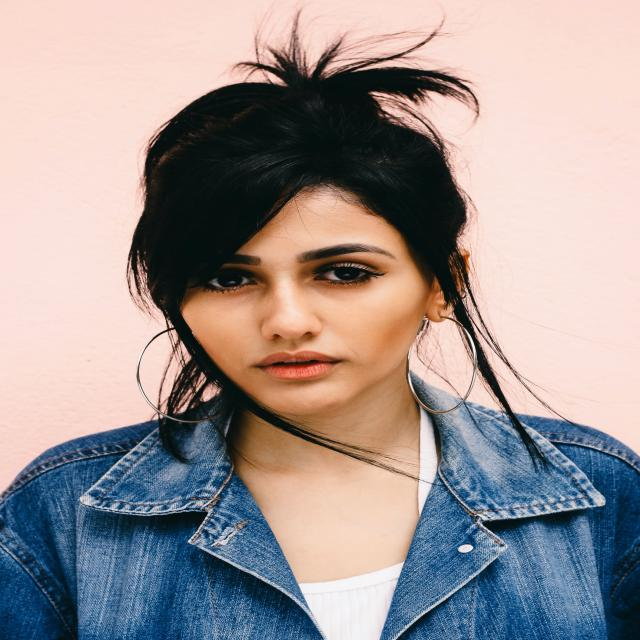adult: (45, 65, 620, 640)
